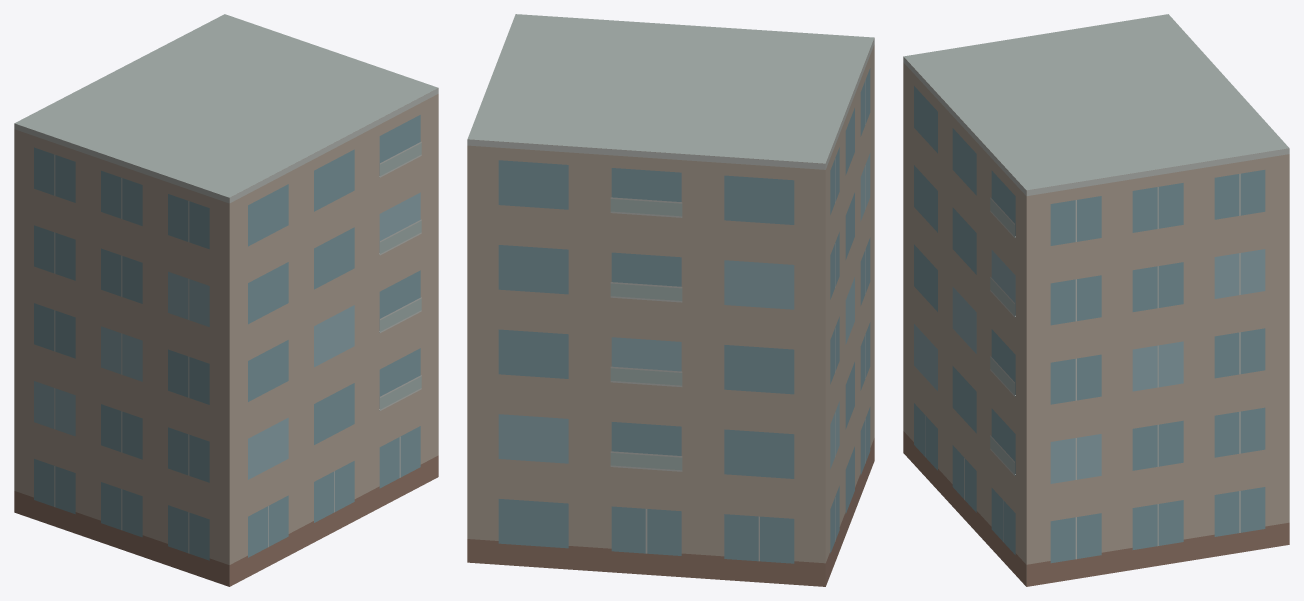
The model's file is survey-upis-32848302.glb.
3 views of the same model, side by side, from view 1: azimuth 30°, elevation 25°; view 2: azimuth 150°, elevation 25°; view 3: azimuth 270°, elevation 25° (orthographic). The views are drawn at different scales.
Visible parts, largest first — view 1: survey-upis-32848302.tmp; view 2: survey-upis-32848302.tmp; view 3: survey-upis-32848302.tmp.
Boxes of the visible parts, <box> form: survey-upis-32848302.tmp: <box>14,14,438,586</box>; survey-upis-32848302.tmp: <box>467,14,874,586</box>; survey-upis-32848302.tmp: <box>903,14,1289,586</box>.
Bounding box in the file's own units: 15.75 × 16.5 × 14.58.
